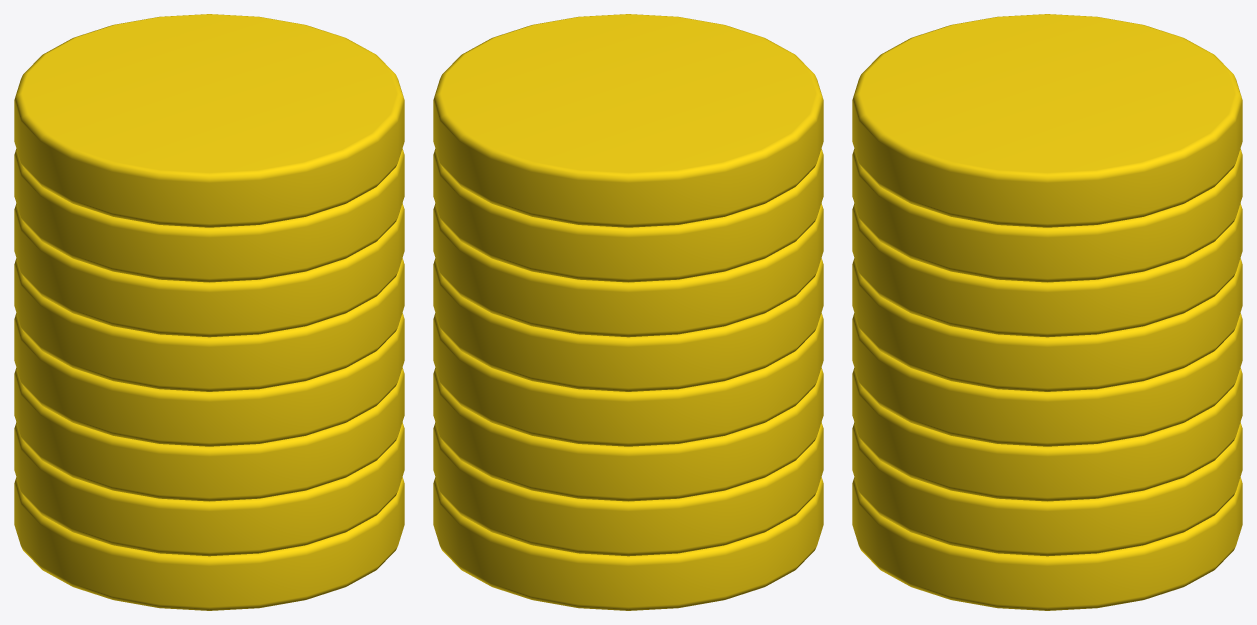
The model's file is Public_1_Stack_of_Coins_2.glb.
3 views of the same model, side by side, from view 1: azimuth 30°, elevation 25°; view 2: azimuth 150°, elevation 25°; view 3: azimuth 270°, elevation 25° (orthographic).
Parts seen in each view (by area): view 1: Public_1_Stack_of_Coins_2; view 2: Public_1_Stack_of_Coins_2; view 3: Public_1_Stack_of_Coins_2.
Part boxes in pixels (x1=…): Public_1_Stack_of_Coins_2: x1=14, y1=14, x2=404, y2=610; Public_1_Stack_of_Coins_2: x1=433, y1=14, x2=823, y2=610; Public_1_Stack_of_Coins_2: x1=852, y1=14, x2=1242, y2=610.
Bounding box in the file's own units: 1.11 × 1.38 × 1.11.
1 material, 1 textured.
